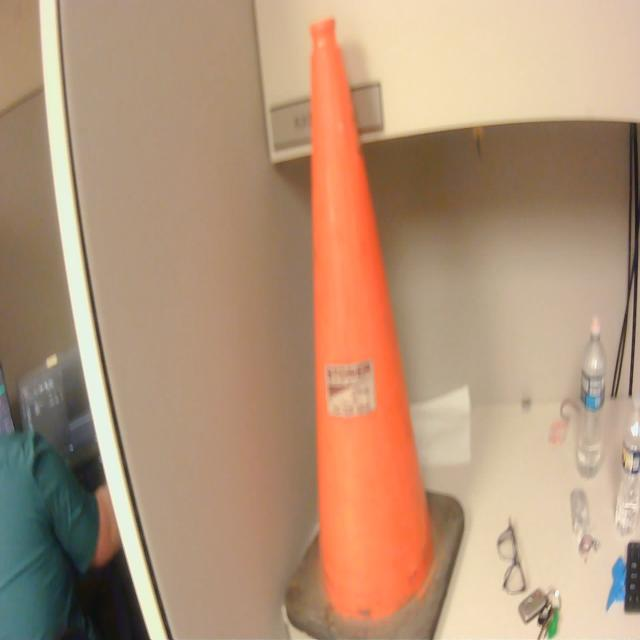traffic cone: (280, 10, 471, 640)
